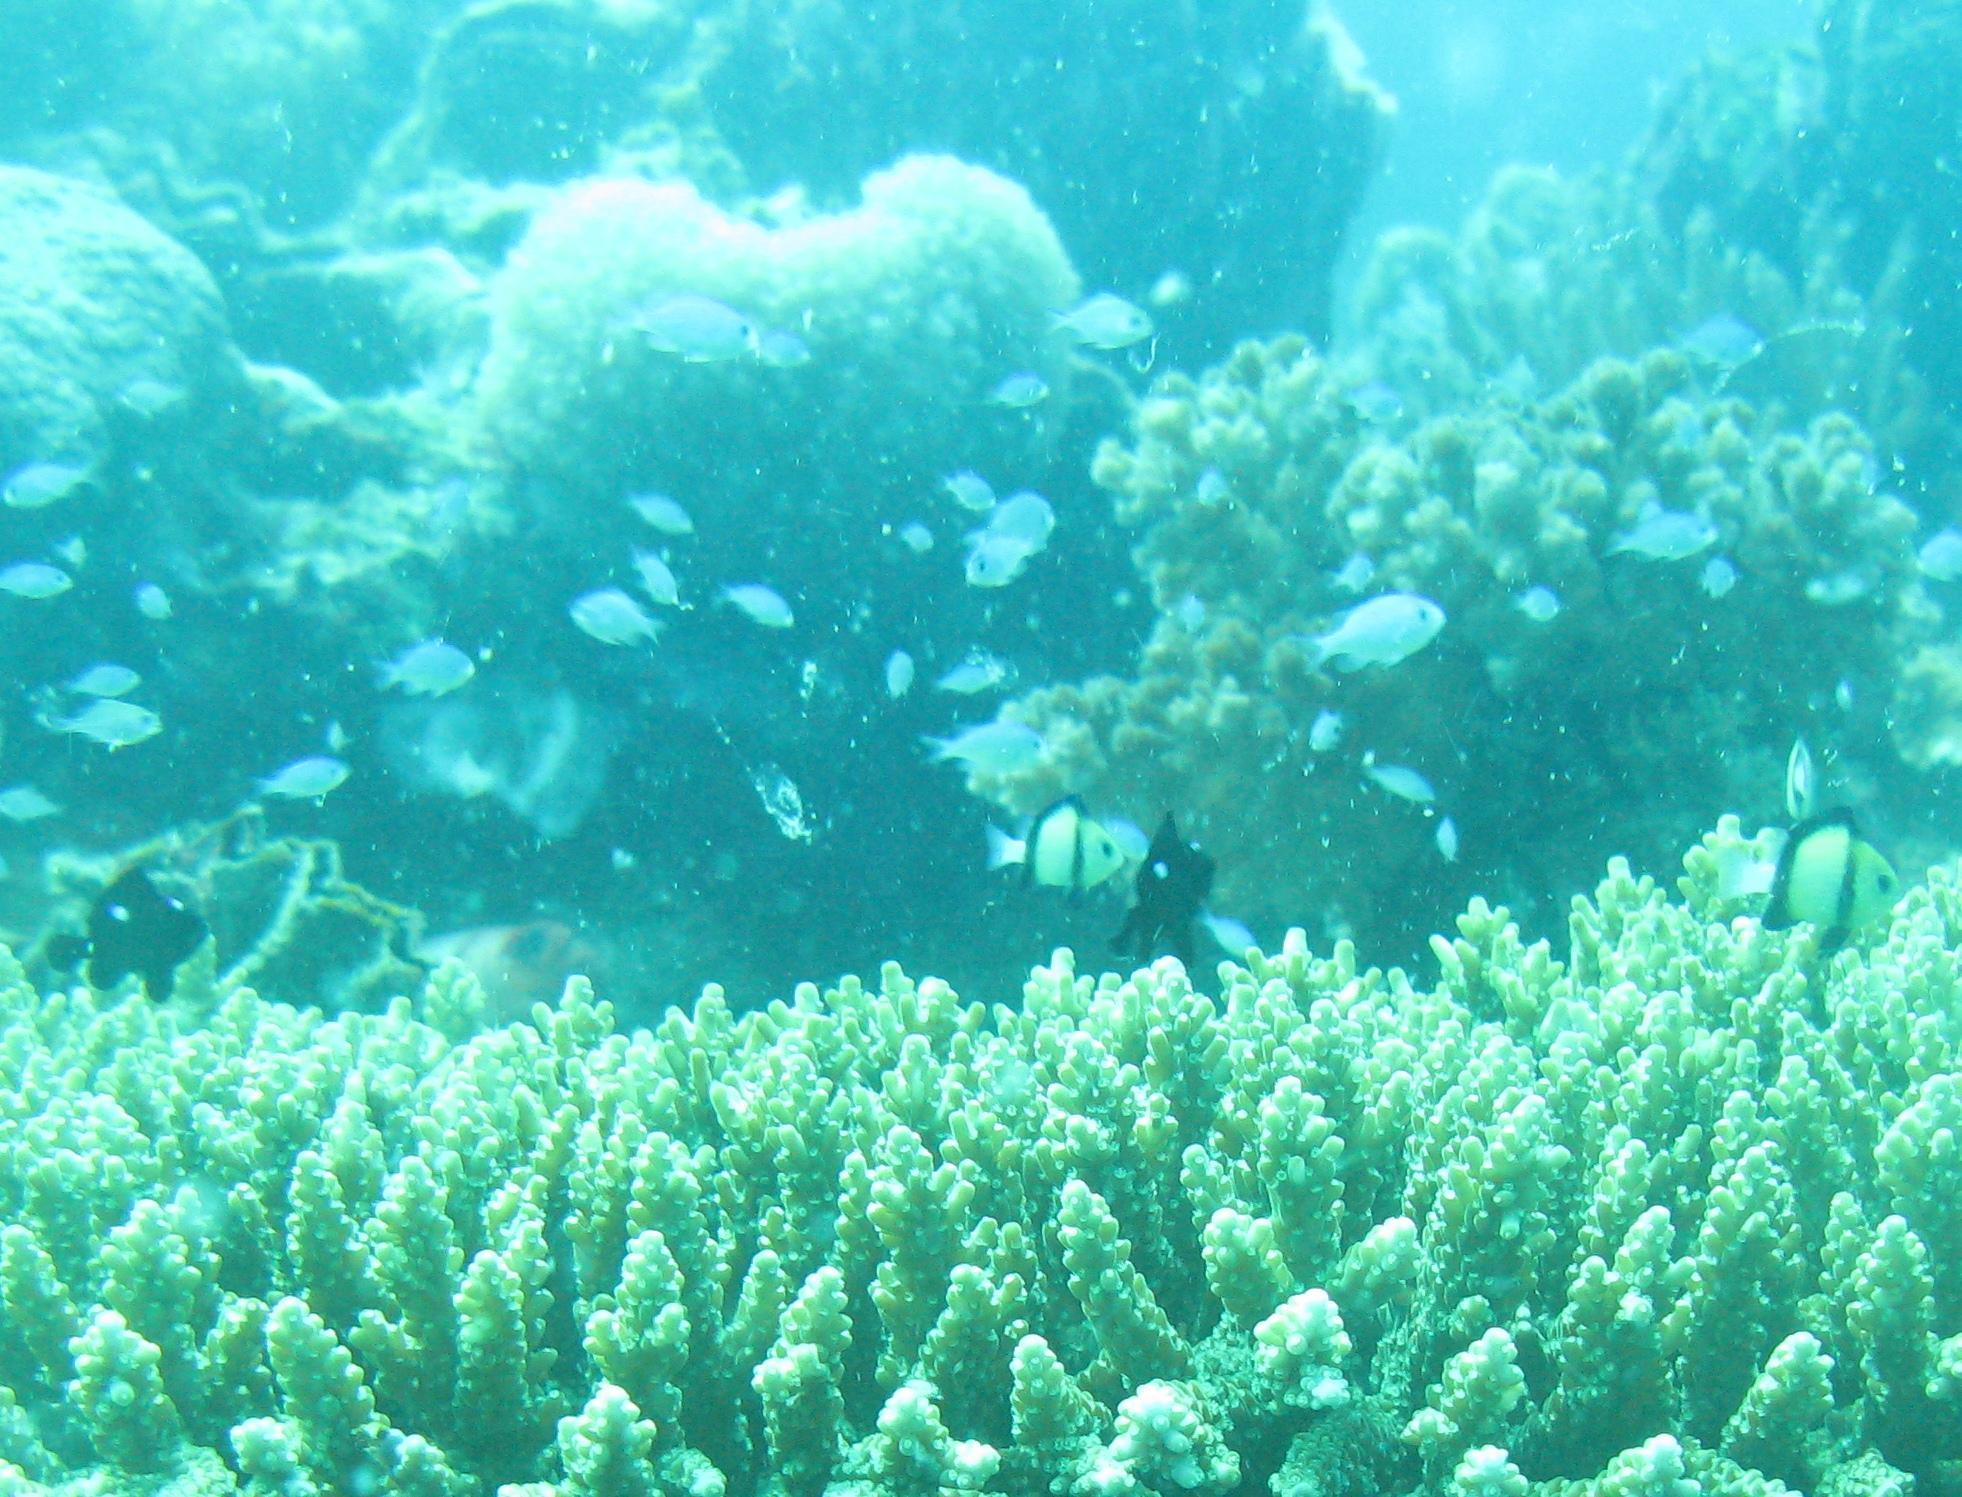Dascyllus reticulatus: (978, 789, 1119, 915)
